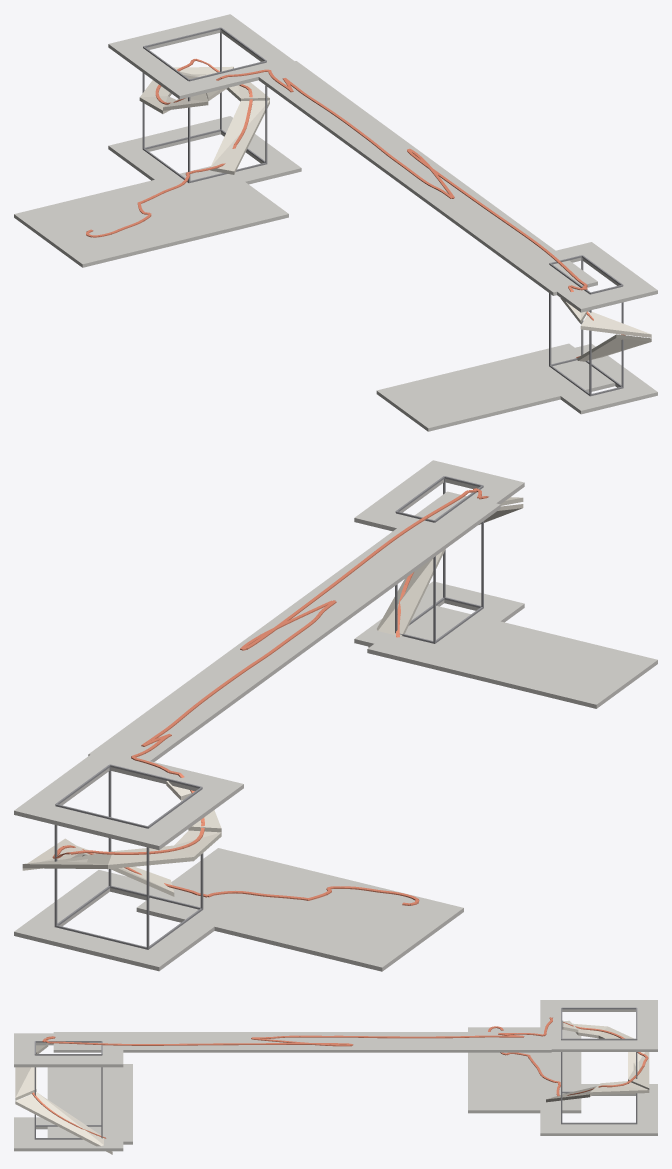
Rendered from diagram.glb.
3 renders of one model, top to bottom at view 1: azimuth 30°, elevation 25°; view 2: azimuth 150°, elevation 25°; view 3: azimuth 270°, elevation 25°, orthographic. The views are drawn at different scales.
Parts seen in each view (by area): view 1: floor, stairs, atrium, path; view 2: floor, stairs, atrium, path; view 3: floor, stairs, path, atrium.
Boxes of the visible parts, box(x1,y1,x2,y2) form: floor: box(14, 14, 657, 431); stairs: box(139, 66, 651, 361); atrium: box(142, 27, 623, 396); path: box(86, 58, 625, 358); floor: box(14, 460, 657, 971); stairs: box(22, 497, 523, 896); atrium: box(54, 476, 483, 949); path: box(52, 488, 488, 905); floor: box(14, 1000, 657, 1151); stairs: box(15, 1020, 649, 1154); path: box(32, 1017, 648, 1138); atrium: box(34, 1007, 637, 1139).
Bounding box in the file's own units: 13.42 × 4.88 × 30.16.
